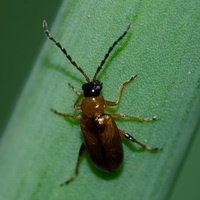insect: (43, 20, 158, 183)
